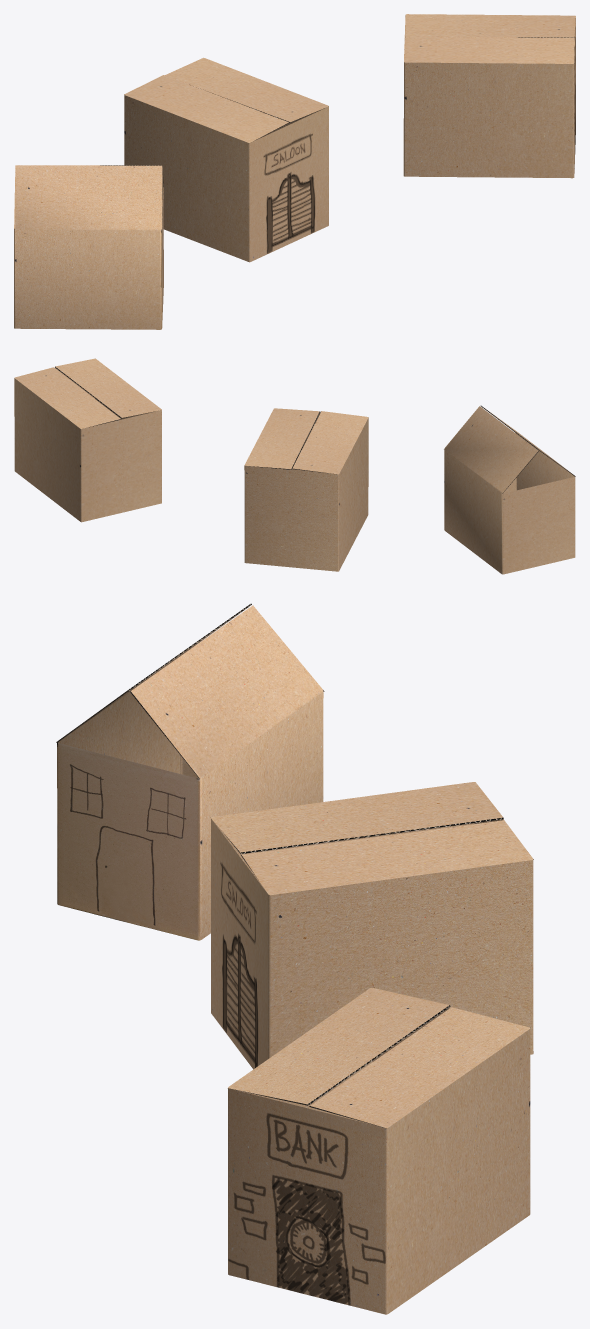
Rendered from WestTown.FBX.
3 renders of one model, top to bottom at view 1: azimuth 30°, elevation 25°; view 2: azimuth 150°, elevation 25°; view 3: azimuth 270°, elevation 25°, orthographic. The views are drawn at different scales.
Parts seen in each view (by area): view 1: saloon, bank, house; view 2: bank, saloon, house; view 3: bank, saloon, house.
Boxes of the visible parts, x1,y1,x2,y2 form: saloon: (124, 58, 328, 262); bank: (403, 14, 575, 178); house: (14, 165, 163, 329); bank: (14, 358, 161, 522); saloon: (244, 408, 368, 571); house: (444, 405, 575, 574); bank: (227, 987, 530, 1314); saloon: (210, 782, 533, 1069); house: (56, 603, 324, 940).
Size of the model in its own units: 306 by 66.69 by 124.
